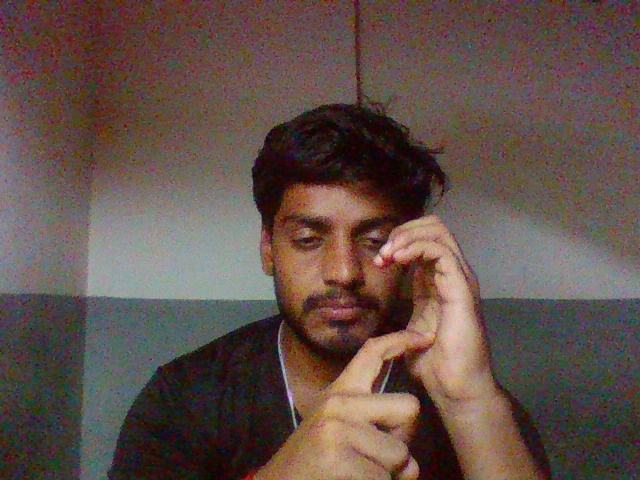G: (319, 212, 500, 480)
